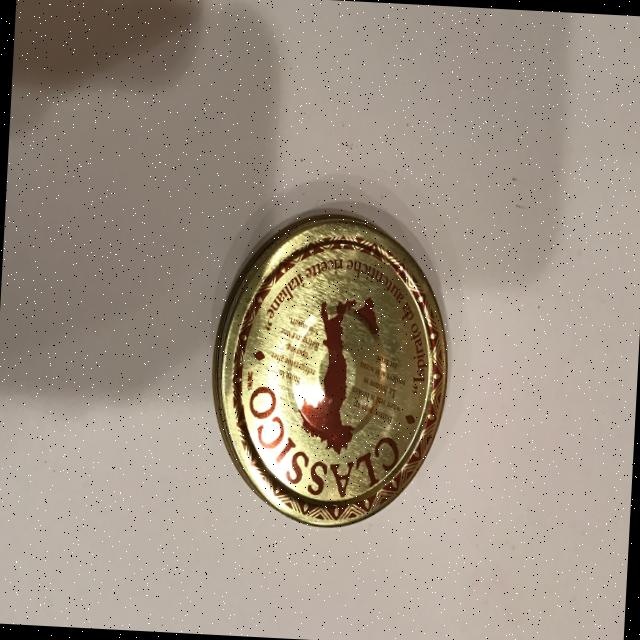metal: (204, 206, 456, 534)
